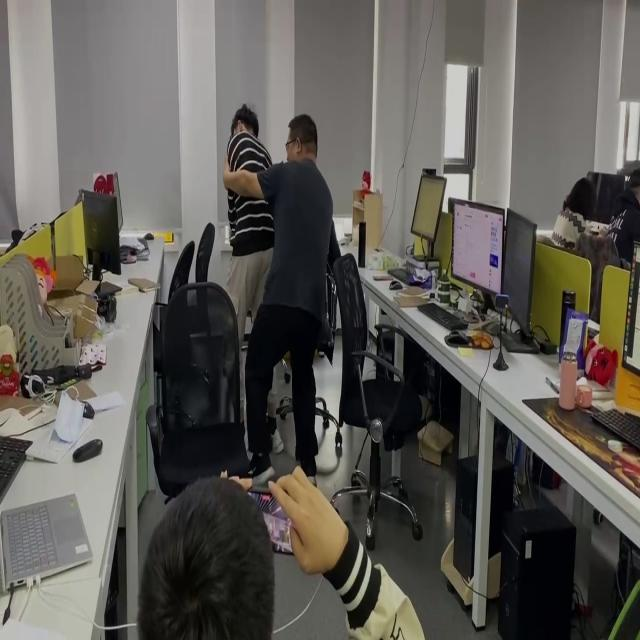fight: (216, 96, 334, 486)
